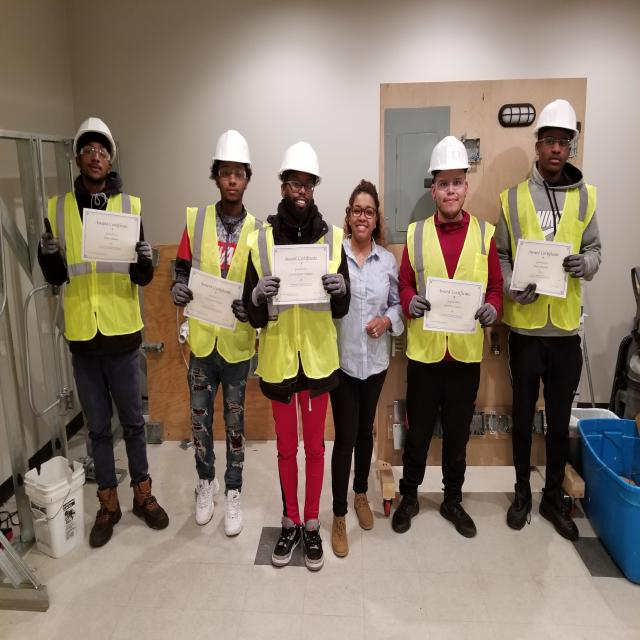Reflective-Jacket: (248, 220, 347, 389), (45, 186, 147, 344), (499, 178, 596, 334), (402, 212, 498, 365), (182, 202, 260, 362)
Safety-Helmet: (68, 111, 119, 157), (531, 94, 580, 140), (276, 137, 323, 182), (208, 124, 254, 169), (426, 132, 472, 175)
